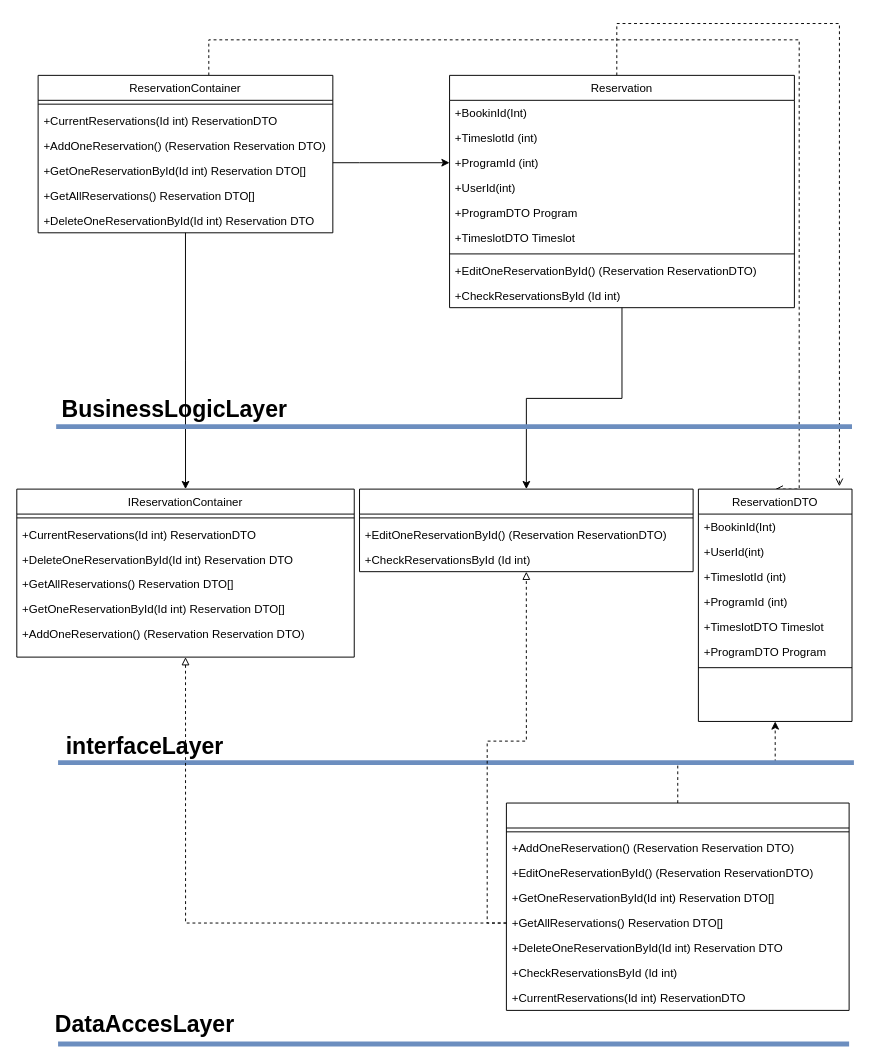
Some shapes in this 874 by 1064 pixel diagram are drawn without their labels. Each missing label, with the box of its shape:
IReservation: (359, 488, 693, 572)
ReservationDAL: (505, 802, 849, 1010)
